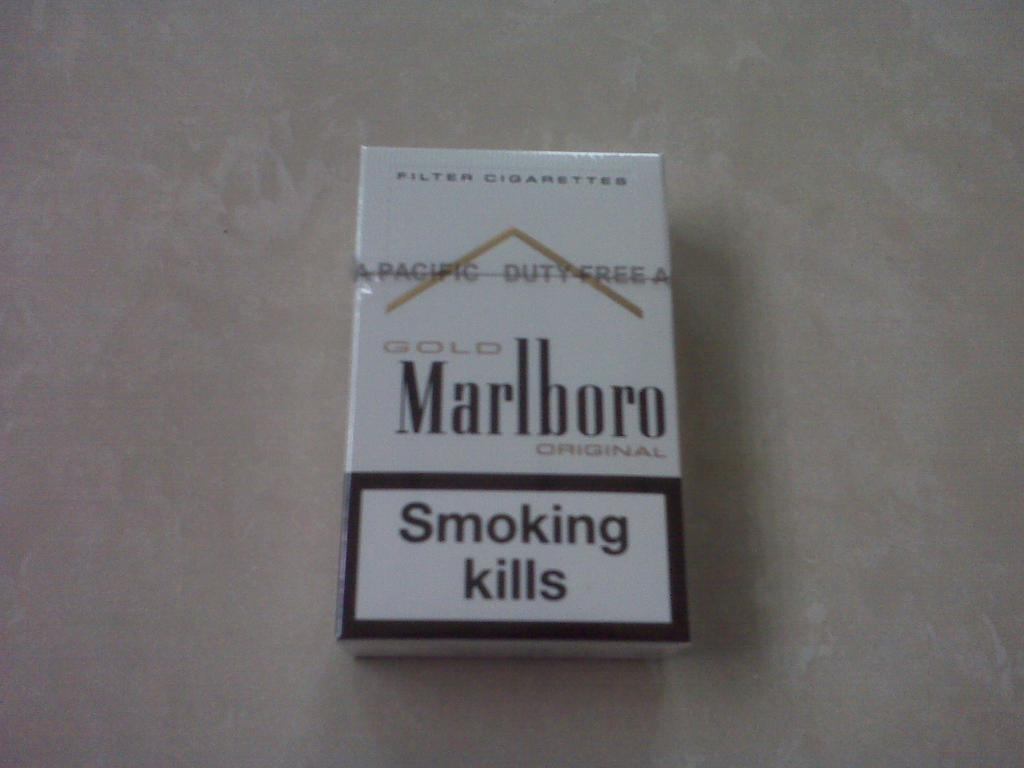marlboro_gold: (353, 152, 681, 635)
